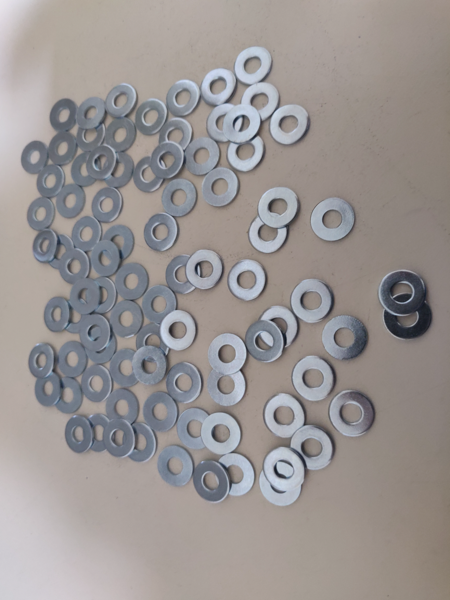circle: (329, 389, 377, 438), (379, 269, 425, 317), (384, 295, 432, 340), (291, 355, 336, 402), (200, 406, 242, 456), (323, 315, 368, 361), (311, 197, 357, 242), (262, 391, 306, 437), (290, 426, 334, 471), (264, 447, 308, 492), (290, 279, 334, 323), (260, 461, 302, 507), (214, 452, 255, 498), (164, 360, 205, 406), (192, 458, 231, 505), (207, 365, 249, 408), (257, 305, 298, 348), (208, 332, 249, 375), (258, 188, 299, 230), (102, 387, 142, 430), (157, 444, 195, 489), (142, 389, 179, 435), (248, 212, 288, 253), (228, 259, 268, 300), (269, 105, 309, 146), (159, 310, 199, 351), (241, 82, 280, 123), (247, 321, 285, 363), (207, 98, 244, 141), (234, 46, 274, 85), (223, 103, 261, 144), (175, 408, 213, 449), (103, 417, 138, 461), (187, 248, 223, 290), (185, 135, 221, 177), (132, 345, 168, 387), (141, 284, 177, 326), (109, 297, 145, 339), (165, 253, 201, 295), (201, 67, 239, 106), (202, 168, 239, 208), (114, 261, 151, 301), (150, 141, 187, 180), (122, 422, 156, 464), (227, 134, 264, 172), (163, 179, 199, 217), (135, 323, 169, 363), (81, 363, 114, 404), (144, 213, 178, 252), (101, 152, 135, 191), (52, 376, 84, 417), (101, 117, 137, 153), (133, 155, 167, 193), (58, 248, 91, 287), (63, 415, 94, 456), (109, 348, 140, 389), (167, 80, 202, 116), (31, 371, 63, 410), (44, 233, 76, 272), (82, 413, 112, 454), (104, 83, 139, 118), (159, 118, 192, 155), (68, 278, 101, 315), (87, 279, 120, 316), (34, 165, 67, 201), (70, 216, 102, 253), (135, 98, 166, 136), (57, 341, 88, 379), (80, 315, 111, 353), (102, 223, 133, 261), (47, 98, 81, 132), (86, 144, 117, 181), (86, 327, 117, 364), (90, 240, 120, 278), (76, 95, 107, 131), (92, 187, 122, 224), (70, 149, 98, 188), (75, 118, 106, 153), (55, 184, 86, 219), (20, 139, 50, 175), (27, 343, 56, 380), (64, 300, 92, 337), (42, 297, 70, 333), (48, 132, 76, 167), (27, 196, 54, 232), (33, 227, 58, 264)
